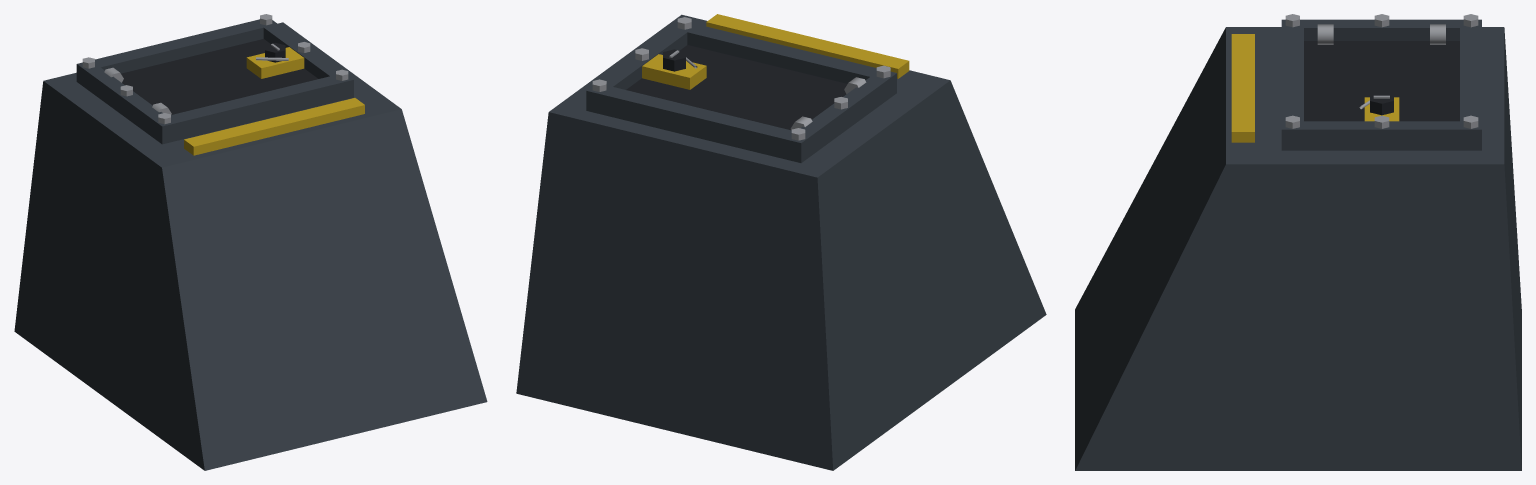
File: bp10_housing.obj
3 renders of one model, left to right at view 1: azimuth 30°, elevation 25°; view 2: azimuth 150°, elevation 25°; view 3: azimuth 270°, elevation 25°, orthographic. The views are drawn at different scales.
Visible parts, largest first — view 1: bp10_housing; view 2: bp10_housing; view 3: bp10_housing.
Boxes of the visible parts, x1,y1,x2,y2 form: bp10_housing: (14, 14, 487, 470); bp10_housing: (516, 14, 1046, 470); bp10_housing: (1075, 14, 1521, 470).
Bounding box in the file's own units: 0.66 × 0.624 × 0.77.
